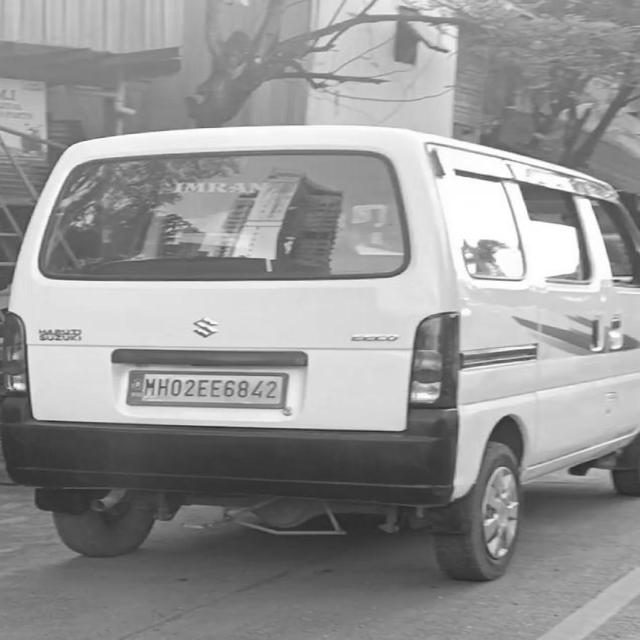car: (2, 122, 640, 582)
license-plate: (129, 369, 290, 406)
